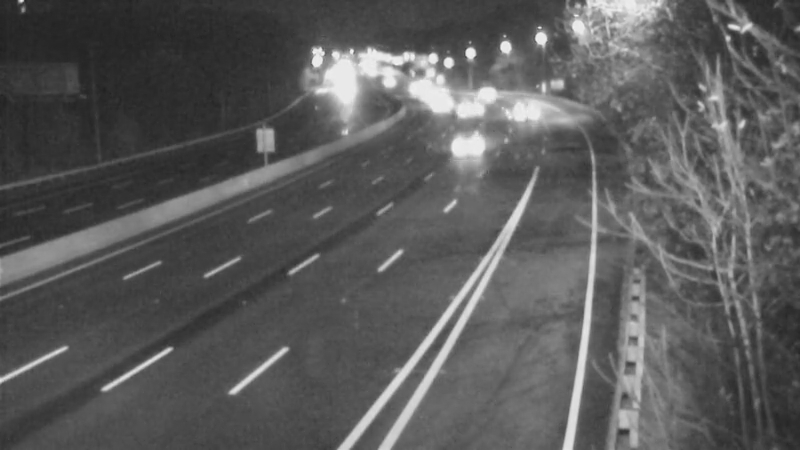vehicle: (462, 66, 512, 116), (441, 83, 491, 133), (490, 89, 540, 139), (441, 107, 491, 157)
